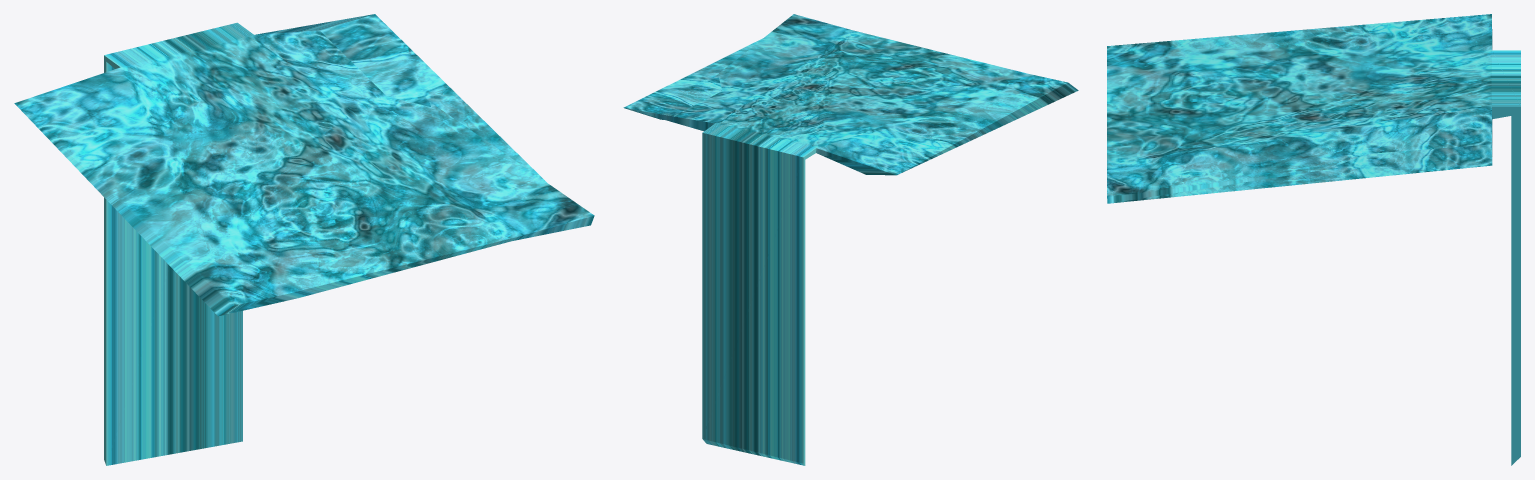
File: water2.fbx
3 views of the same model, side by side, from view 1: azimuth 30°, elevation 25°; view 2: azimuth 150°, elevation 25°; view 3: azimuth 270°, elevation 25° (orthographic). The views are drawn at different scales.
Visible parts, largest first — view 1: Water2; view 2: Water2; view 3: Water2.
Part boxes in pixels (bbox=[...]): Water2: bbox=[14, 14, 594, 465]; Water2: bbox=[623, 14, 1078, 465]; Water2: bbox=[1107, 14, 1520, 465].
Size of the model in its own units: 98.17 by 103 by 107.
Materials: 1 (1 with a texture image).
